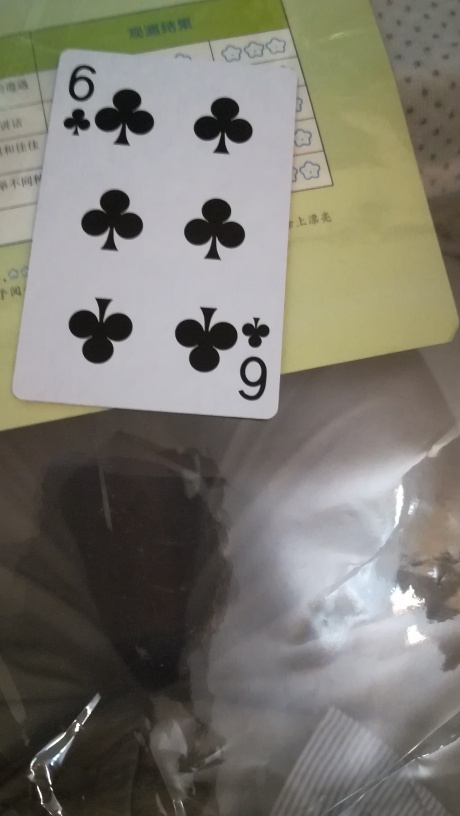mh 6: (13, 48, 295, 421)
